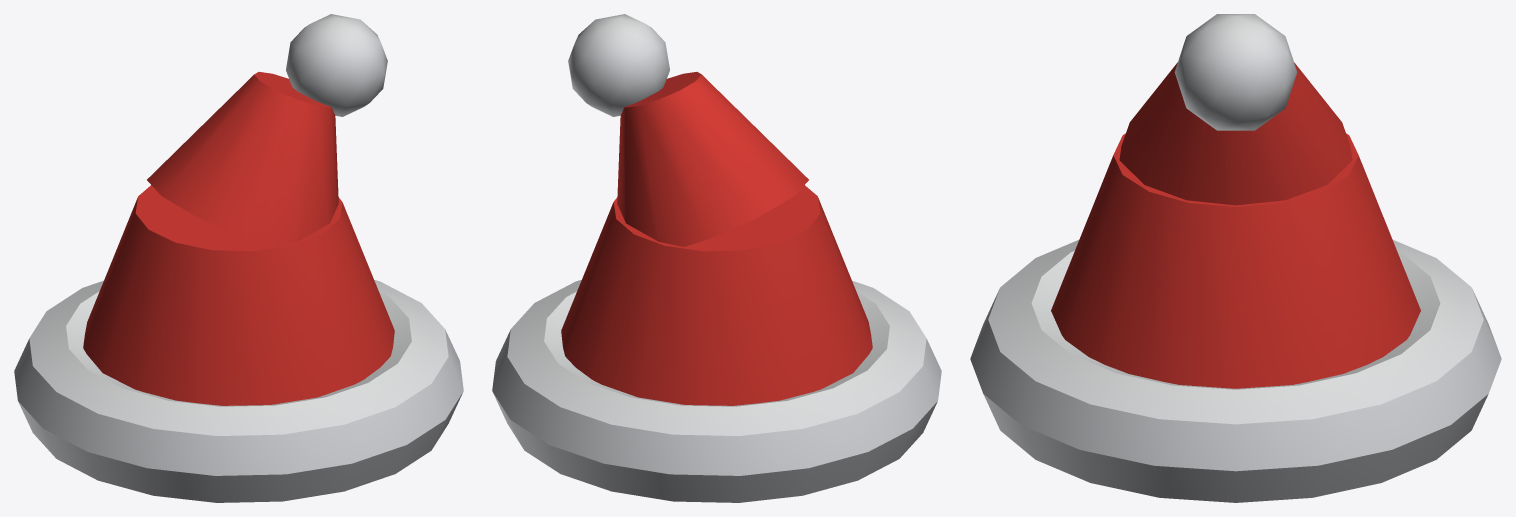
Rendered from lo_hat_weihnacht.glb.
The picture shows the model from 3 angles, left to right: view 1: azimuth 30°, elevation 25°; view 2: azimuth 150°, elevation 25°; view 3: azimuth 270°, elevation 25°; orthographic projection. The views are drawn at different scales.
Visible parts, largest first — view 1: body; view 2: body; view 3: body.
Part boxes in pixels (bbox=[...]): body: bbox=[14, 14, 463, 502]; body: bbox=[492, 14, 941, 502]; body: bbox=[970, 14, 1501, 502].
Bounding box in the file's own units: 0.52 × 0.48 × 0.52.
